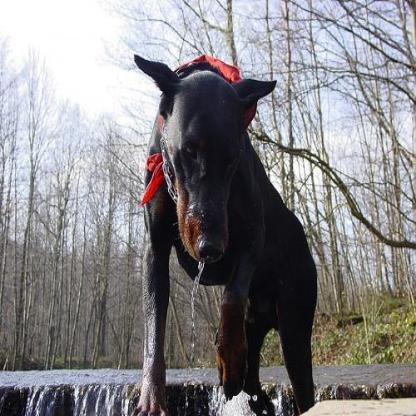Doberman: (128, 50, 320, 414)
